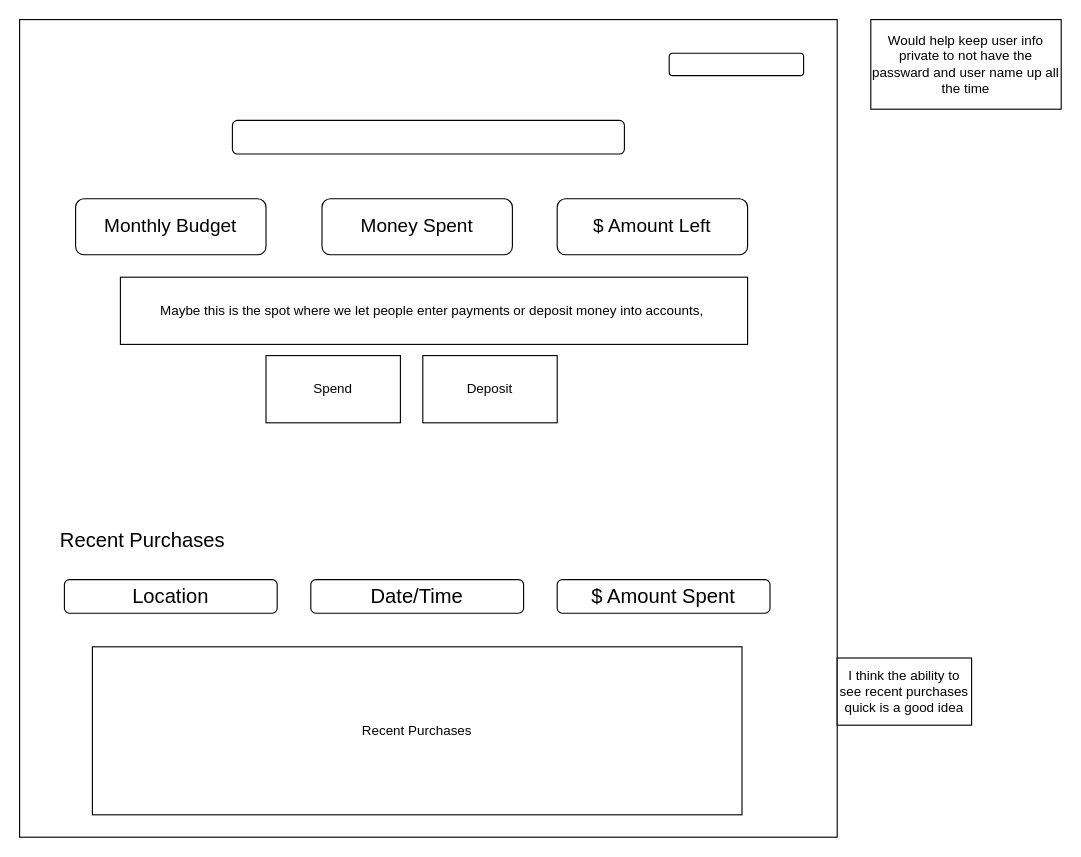
Image size: 1081x857. Some labels were removed from this diagram. The shapes that lost their labels are listed below. From the top down, each one's centre as x and y in pixels, then its label:
At point 736,64: "Profile Link".
At point 427,136: "Name".
